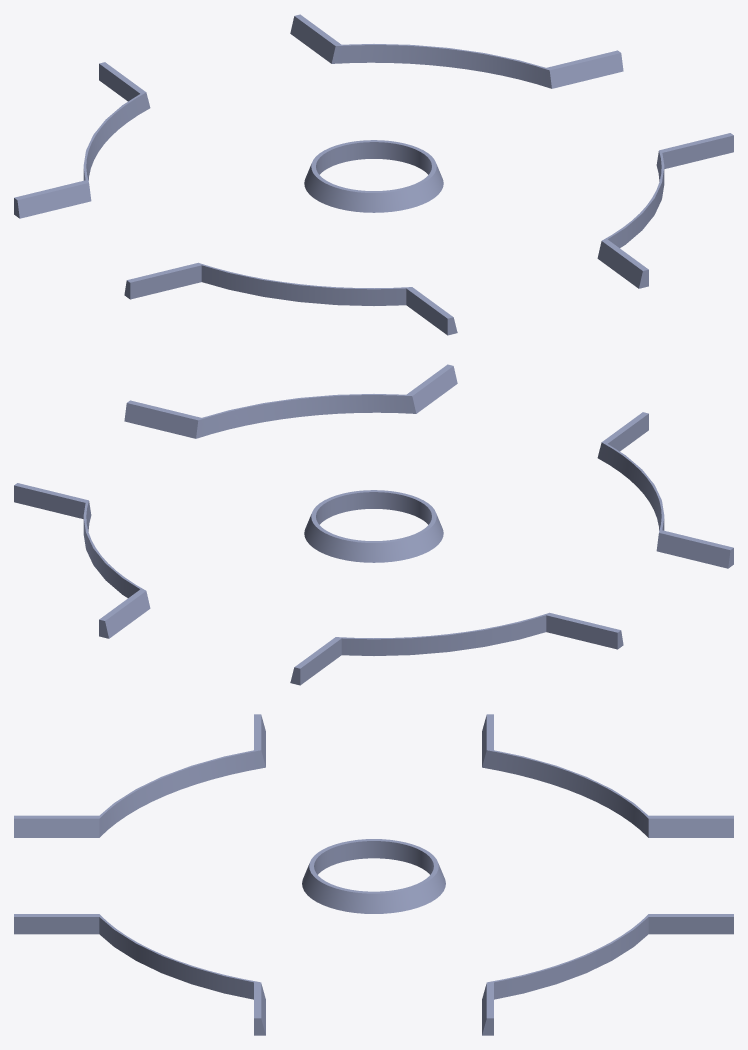
The model's file is road-roundabout-barrier.glb.
The picture shows the model from 3 angles, top to bottom: view 1: azimuth 30°, elevation 25°; view 2: azimuth 150°, elevation 25°; view 3: azimuth 270°, elevation 25°; orthographic projection. The views are drawn at different scales.
Parts seen in each view (by area): view 1: road-roundabout-barrier; view 2: road-roundabout-barrier; view 3: road-roundabout-barrier.
Boxes of the visible parts, bbox=[...] form: road-roundabout-barrier: bbox=[14, 14, 733, 335]; road-roundabout-barrier: bbox=[14, 364, 733, 685]; road-roundabout-barrier: bbox=[14, 714, 733, 1035].
Size of the model in its own units: 30 by 0.7984 by 30.
1 material, 1 textured.
